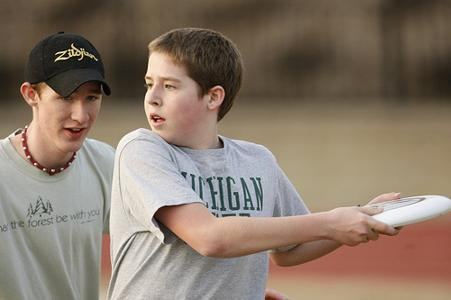person: (107, 27, 407, 300)
